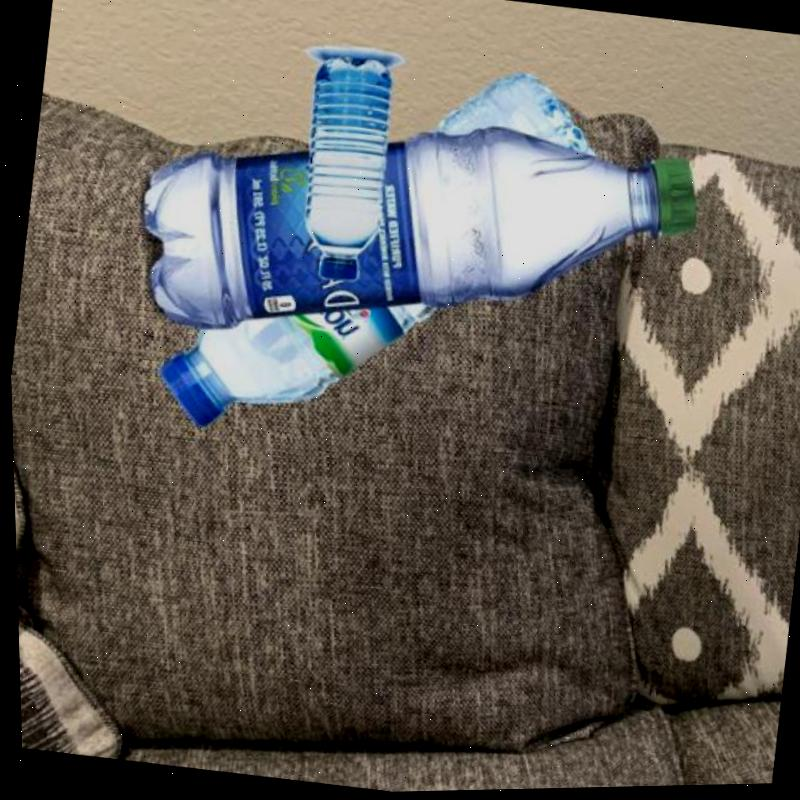botella: (143, 27, 621, 483), (120, 76, 705, 396), (288, 41, 411, 283)
